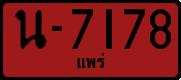letters: (14, 9, 48, 51), (69, 8, 94, 50), (122, 8, 146, 51), (148, 8, 172, 50), (104, 7, 114, 50)
province: (76, 51, 105, 70)
